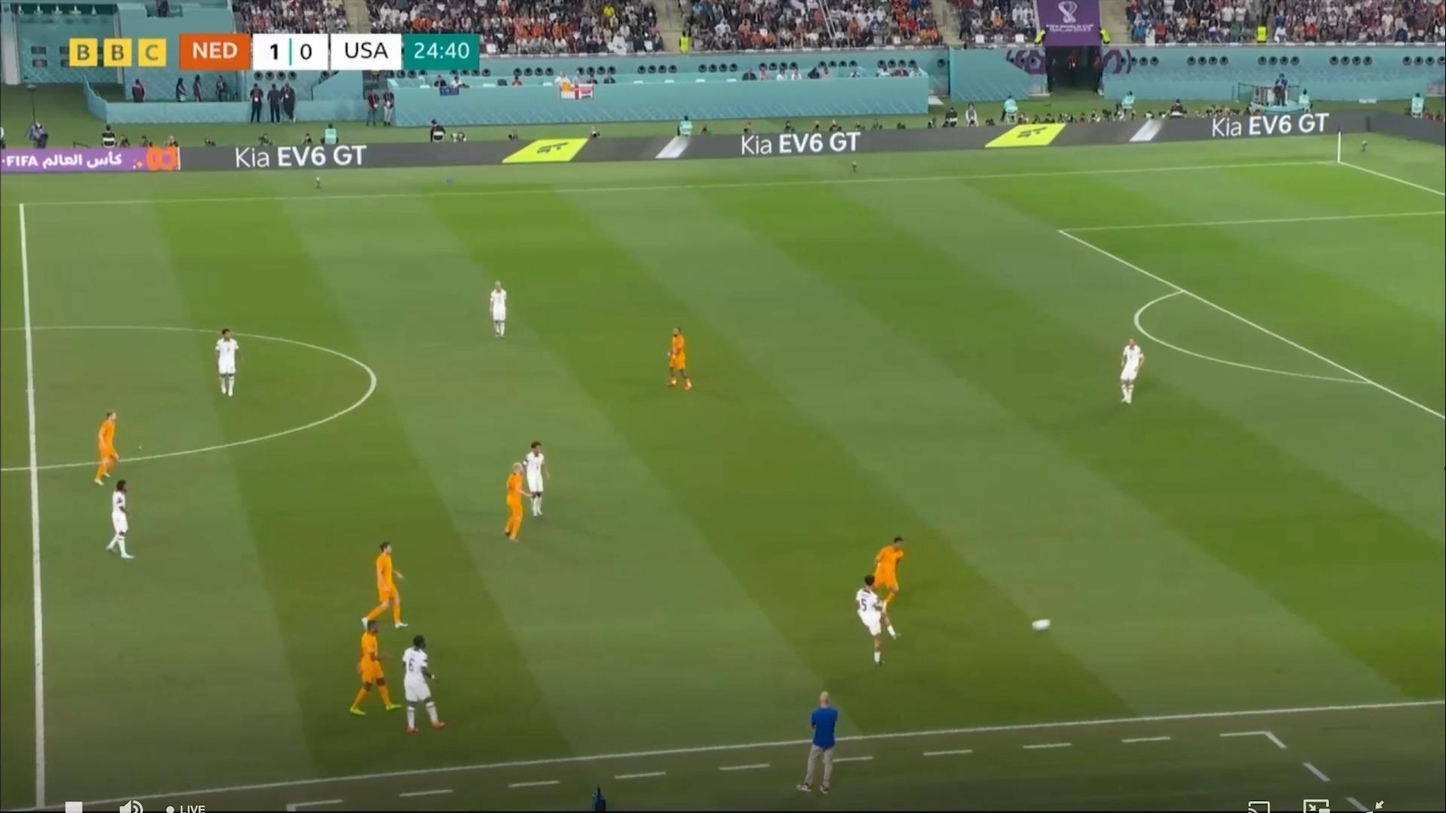Ball: (1034, 617, 1049, 633)
Player: (796, 691, 839, 796), (869, 536, 915, 634), (401, 637, 446, 735), (350, 622, 395, 716), (852, 576, 895, 667), (367, 541, 407, 631), (92, 409, 127, 491), (106, 483, 140, 562), (504, 465, 536, 548), (1114, 339, 1146, 410), (664, 323, 696, 393), (523, 444, 551, 520), (213, 328, 241, 396), (489, 282, 515, 340)
